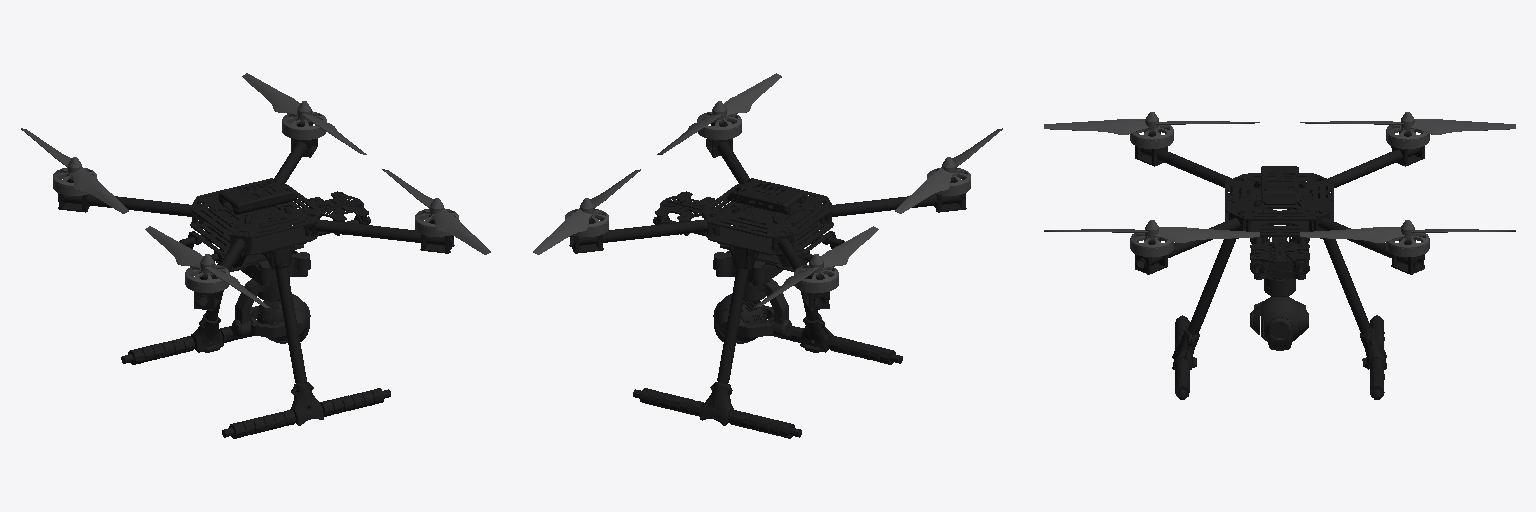
URDF robot description (x500):
<?xml version='1.0' encoding='utf-8'?>
<robot name="x500">
  <!-- Generated by scripts/px4_sdf_to_urdf.py from PX4-gazebo-models x500_gimbal. Velocity and acceleration limits live in drone_planning/x500.py. -->
  <link name="world" />
  <joint name="base_x_joint" type="prismatic">
    <parent link="world" />
    <child link="base_x_link" />
    <axis xyz="1 0 0" />
    <limit lower="-10" upper="10" effort="0" velocity="0" />
  </joint>
  <link name="base_x_link" />
  <joint name="base_y_joint" type="prismatic">
    <parent link="base_x_link" />
    <child link="base_y_link" />
    <axis xyz="0 1 0" />
    <limit lower="-10" upper="10" effort="0" velocity="0" />
  </joint>
  <link name="base_y_link" />
  <joint name="base_z_joint" type="prismatic">
    <parent link="base_y_link" />
    <child link="base_z_link" />
    <axis xyz="0 0 1" />
    <limit lower="0" upper="10" effort="0" velocity="0" />
  </joint>
  <link name="base_z_link" />
  <joint name="base_yaw_joint" type="revolute">
    <parent link="base_z_link" />
    <child link="base_link" />
    <axis xyz="0 0 1" />
    <limit lower="-3.14159265" upper="3.14159265" effort="0" velocity="0" />
  </joint>
  <link name="base_link">
    <inertial>
      <origin xyz="0 0 0" rpy="0 0 0" />
      <mass value="2.0" />
      <inertia ixx="0.02166666666666667" ixy="0" ixz="0" iyy="0.02166666666666667" iyz="0" izz="0.04000000000000001" />
    </inertial>
    <visual>
      <origin xyz="0 0 0.025" rpy="0 0 -3.14159265" />
      <geometry>
        <mesh filename="package://meshes/NXP-HGD-CF.stl" />
      </geometry>
      <material name="base_link_color">
        <color rgba="0.15 0.15 0.15 1" />
      </material>
    </visual>
    <collision>
      <origin xyz="0 0 0.025" rpy="0 0 -3.14159265" />
      <geometry>
        <mesh filename="package://meshes/NXP-HGD-CF.stl" />
      </geometry>
    </collision>
    <visual>
      <origin xyz="0.174 0.174 0.032" rpy="0 0 -0.45" />
      <geometry>
        <mesh filename="package://meshes/5010Base.stl" />
      </geometry>
      <material name="base_link_color">
        <color rgba="0.15 0.15 0.15 1" />
      </material>
    </visual>
    <collision>
      <origin xyz="0.174 0.174 0.032" rpy="0 0 -0.45" />
      <geometry>
        <mesh filename="package://meshes/5010Base.stl" />
      </geometry>
    </collision>
    <visual>
      <origin xyz="-0.174 0.174 0.032" rpy="0 0 -0.45" />
      <geometry>
        <mesh filename="package://meshes/5010Base.stl" />
      </geometry>
      <material name="base_link_color">
        <color rgba="0.15 0.15 0.15 1" />
      </material>
    </visual>
    <collision>
      <origin xyz="-0.174 0.174 0.032" rpy="0 0 -0.45" />
      <geometry>
        <mesh filename="package://meshes/5010Base.stl" />
      </geometry>
    </collision>
    <visual>
      <origin xyz="0.174 -0.174 0.032" rpy="0 0 -0.45" />
      <geometry>
        <mesh filename="package://meshes/5010Base.stl" />
      </geometry>
      <material name="base_link_color">
        <color rgba="0.15 0.15 0.15 1" />
      </material>
    </visual>
    <collision>
      <origin xyz="0.174 -0.174 0.032" rpy="0 0 -0.45" />
      <geometry>
        <mesh filename="package://meshes/5010Base.stl" />
      </geometry>
    </collision>
    <visual>
      <origin xyz="-0.174 -0.174 0.032" rpy="0 0 -0.45" />
      <geometry>
        <mesh filename="package://meshes/5010Base.stl" />
      </geometry>
      <material name="base_link_color">
        <color rgba="0.15 0.15 0.15 1" />
      </material>
    </visual>
    <collision>
      <origin xyz="-0.174 -0.174 0.032" rpy="0 0 -0.45" />
      <geometry>
        <mesh filename="package://meshes/5010Base.stl" />
      </geometry>
    </collision>
  </link>
  <link name="rotor_0">
    <inertial>
      <origin xyz="0 0 0" rpy="0 0 0" />
      <mass value="0.016076923076923075" />
      <inertia ixx="3.8464910483993325e-07" ixy="0" ixz="0" iyy="2.6115851691700804e-05" iyz="0" izz="2.649858234714004e-05" />
    </inertial>
    <visual>
      <origin xyz="-0.022 -0.146384615 -0.016" rpy="0 0 0" />
      <geometry>
        <mesh filename="package://meshes/1345_prop_ccw.stl" />
      </geometry>
      <material name="rotor_0_color">
        <color rgba="0.3 0.3 0.3 1" />
      </material>
    </visual>
    <visual>
      <origin xyz="0 0 -0.032" rpy="0 0 0" />
      <geometry>
        <mesh filename="package://meshes/5010Bell.stl" />
      </geometry>
      <material name="rotor_0_color">
        <color rgba="0.3 0.3 0.3 1" />
      </material>
    </visual>
    <collision>
      <origin xyz="0 0 -0.011307697" rpy="0 0 0" />
      <geometry>
        <cylinder radius="0.146768858" length="0.041384624" />
      </geometry>
    </collision>
  </link>
  <joint name="rotor_0_joint" type="fixed">
    <origin xyz="0.174 -0.174 0.06" rpy="0 0 0" />
    <parent link="base_link" />
    <child link="rotor_0" />
  </joint>
  <link name="rotor_1">
    <inertial>
      <origin xyz="0 0 0" rpy="0 0 0" />
      <mass value="0.016076923076923075" />
      <inertia ixx="3.8464910483993325e-07" ixy="0" ixz="0" iyy="2.6115851691700804e-05" iyz="0" izz="2.649858234714004e-05" />
    </inertial>
    <visual>
      <origin xyz="-0.022 -0.146384615 -0.016" rpy="0 0 0" />
      <geometry>
        <mesh filename="package://meshes/1345_prop_ccw.stl" />
      </geometry>
      <material name="rotor_1_color">
        <color rgba="0.3 0.3 0.3 1" />
      </material>
    </visual>
    <visual>
      <origin xyz="0 0 -0.032" rpy="0 0 0" />
      <geometry>
        <mesh filename="package://meshes/5010Bell.stl" />
      </geometry>
      <material name="rotor_1_color">
        <color rgba="0.3 0.3 0.3 1" />
      </material>
    </visual>
    <collision>
      <origin xyz="0 0 -0.011307697" rpy="0 0 0" />
      <geometry>
        <cylinder radius="0.146768858" length="0.041384624" />
      </geometry>
    </collision>
  </link>
  <joint name="rotor_1_joint" type="fixed">
    <origin xyz="-0.174 0.174 0.06" rpy="0 0 0" />
    <parent link="base_link" />
    <child link="rotor_1" />
  </joint>
  <link name="rotor_2">
    <inertial>
      <origin xyz="0 0 0" rpy="0 0 0" />
      <mass value="0.016076923076923075" />
      <inertia ixx="3.8464910483993325e-07" ixy="0" ixz="0" iyy="2.6115851691700804e-05" iyz="0" izz="2.649858234714004e-05" />
    </inertial>
    <visual>
      <origin xyz="-0.022 -0.146384615 -0.016" rpy="0 0 0" />
      <geometry>
        <mesh filename="package://meshes/1345_prop_cw.stl" />
      </geometry>
      <material name="rotor_2_color">
        <color rgba="0.3 0.3 0.3 1" />
      </material>
    </visual>
    <visual>
      <origin xyz="0 0 -0.032" rpy="0 0 0" />
      <geometry>
        <mesh filename="package://meshes/5010Bell.stl" />
      </geometry>
      <material name="rotor_2_color">
        <color rgba="0.3 0.3 0.3 1" />
      </material>
    </visual>
    <collision>
      <origin xyz="0 0 -0.011307697" rpy="0 0 0" />
      <geometry>
        <cylinder radius="0.146768945" length="0.041384624" />
      </geometry>
    </collision>
  </link>
  <joint name="rotor_2_joint" type="fixed">
    <origin xyz="0.174 0.174 0.06" rpy="0 0 0" />
    <parent link="base_link" />
    <child link="rotor_2" />
  </joint>
  <link name="rotor_3">
    <inertial>
      <origin xyz="0 0 0" rpy="0 0 0" />
      <mass value="0.016076923076923075" />
      <inertia ixx="3.8464910483993325e-07" ixy="0" ixz="0" iyy="2.6115851691700804e-05" iyz="0" izz="2.649858234714004e-05" />
    </inertial>
    <visual>
      <origin xyz="-0.022 -0.146384615 -0.016" rpy="0 0 0" />
      <geometry>
        <mesh filename="package://meshes/1345_prop_cw.stl" />
      </geometry>
      <material name="rotor_3_color">
        <color rgba="0.3 0.3 0.3 1" />
      </material>
    </visual>
    <visual>
      <origin xyz="0 0 -0.032" rpy="0 0 0" />
      <geometry>
        <mesh filename="package://meshes/5010Bell.stl" />
      </geometry>
      <material name="rotor_3_color">
        <color rgba="0.3 0.3 0.3 1" />
      </material>
    </visual>
    <collision>
      <origin xyz="0 0 -0.011307697" rpy="0 0 0" />
      <geometry>
        <cylinder radius="0.146768945" length="0.041384624" />
      </geometry>
    </collision>
  </link>
  <joint name="rotor_3_joint" type="fixed">
    <origin xyz="-0.174 -0.174 0.06" rpy="0 0 0" />
    <parent link="base_link" />
    <child link="rotor_3" />
  </joint>
  <link name="cgo3_mount_link">
    <inertial>
      <origin xyz="-0.02552 0 -0.08136" rpy="0 0 0" />
      <mass value="0.1" />
      <inertia ixx="0.001" ixy="0" ixz="0" iyy="0.001" iyz="0" izz="0.001" />
    </inertial>
    <visual>
      <origin xyz="0 0 0" rpy="0 0 0" />
      <geometry>
        <mesh filename="package://meshes/cgo3_mount_remeshed_v1.stl" />
      </geometry>
      <material name="cgo3_mount_link_color">
        <color rgba="0.175 0.175 0.175 1" />
      </material>
    </visual>
    <collision>
      <origin xyz="0 0 0" rpy="0 0 0" />
      <geometry>
        <mesh filename="package://meshes/cgo3_mount_remeshed_v1.stl" />
      </geometry>
    </collision>
  </link>
  <joint name="GimbalAttachJoint" type="fixed">
    <origin xyz="0 0 0.02" rpy="0 0 3.14" />
    <parent link="base_link" />
    <child link="cgo3_mount_link" />
  </joint>
  <link name="cgo3_vertical_arm_link">
    <inertial>
      <origin xyz="0.02552 0 -0.1283" rpy="0 0 0" />
      <mass value="0.1" />
      <inertia ixx="0.001" ixy="0" ixz="0" iyy="0.001" iyz="0" izz="0.001" />
    </inertial>
    <visual>
      <origin xyz="0.02552 0 0" rpy="0 0 0" />
      <geometry>
        <mesh filename="package://meshes/cgo3_vertical_arm_remeshed_v1.stl" />
      </geometry>
      <material name="cgo3_vertical_arm_link_color">
        <color rgba="0.175 0.175 0.175 1" />
      </material>
    </visual>
    <collision>
      <origin xyz="0.02552 0 0" rpy="0 0 0" />
      <geometry>
        <mesh filename="package://meshes/cgo3_vertical_arm_remeshed_v1.stl" />
      </geometry>
    </collision>
  </link>
  <joint name="cgo3_vertical_arm_joint" type="revolute">
    <origin xyz="-0.02552 0 0" rpy="0 0 0" />
    <parent link="cgo3_mount_link" />
    <child link="cgo3_vertical_arm_link" />
    <axis xyz="0 0 -1" />
    <limit lower="-3.14159265" upper="3.14159265" effort="0" velocity="0" />
  </joint>
  <link name="cgo3_horizontal_arm_link">
    <inertial>
      <origin xyz="-0.0213 0 -0.0001" rpy="0 0 0" />
      <mass value="0.1" />
      <inertia ixx="0.001" ixy="0" ixz="0" iyy="0.001" iyz="0" izz="0.001" />
    </inertial>
    <visual>
      <origin xyz="0 0 0.1619" rpy="0 0 0" />
      <geometry>
        <mesh filename="package://meshes/cgo3_horizontal_arm_remeshed_v1.stl" />
      </geometry>
      <material name="cgo3_horizontal_arm_link_color">
        <color rgba="0.175 0.175 0.175 1" />
      </material>
    </visual>
    <collision>
      <origin xyz="0 0 0.1619" rpy="0 0 0" />
      <geometry>
        <mesh filename="package://meshes/cgo3_horizontal_arm_remeshed_v1.stl" />
      </geometry>
    </collision>
  </link>
  <joint name="cgo3_horizontal_arm_joint" type="fixed">
    <origin xyz="0.02552 0 -0.1619" rpy="0 0 0" />
    <parent link="cgo3_vertical_arm_link" />
    <child link="cgo3_horizontal_arm_link" />
  </joint>
  <link name="camera_link">
    <inertial>
      <origin xyz="0 0 0" rpy="0 0 0" />
      <mass value="0.1" />
      <inertia ixx="0.001" ixy="0" ixz="0" iyy="0.001" iyz="0" izz="0.001" />
    </inertial>
    <visual>
      <origin xyz="0.0412 0 0.162" rpy="0 0 0" />
      <geometry>
        <mesh filename="package://meshes/cgo3_camera_remeshed_v1.stl" />
      </geometry>
      <material name="camera_link_color">
        <color rgba="0.175 0.175 0.175 1" />
      </material>
    </visual>
    <collision>
      <origin xyz="0.0412 0 0.162" rpy="0 0 0" />
      <geometry>
        <mesh filename="package://meshes/cgo3_camera_remeshed_v1.stl" />
      </geometry>
    </collision>
  </link>
  <joint name="cgo3_camera_joint" type="revolute">
    <origin xyz="-0.0412 0 -0.0001" rpy="0 0 0" />
    <parent link="cgo3_horizontal_arm_link" />
    <child link="camera_link" />
    <axis xyz="0 1 0" />
    <limit lower="-2.35619" upper="0.7854" effort="0" velocity="0" />
  </joint>
  <joint name="camera_sensor_joint" type="fixed">
    <origin xyz="0 0 0" rpy="0 0 3.14" />
    <parent link="camera_link" />
    <child link="camera_sensor_link" />
  </joint>
  <link name="camera_sensor_link" />
</robot>

--- Render facts (derived) ---
Views: 3 orthographic renders of the robot side by side, from view 1: azimuth 30°, elevation 25°; view 2: azimuth 150°, elevation 25°; view 3: azimuth 270°, elevation 25°.
Model x500 with 14 links and 13 joints (3 revolute, 3 prismatic, 7 fixed), rooted at world, posed all joints at 0.
Links seen in each view (by area): view 1: base_link, rotor_2, rotor_3, rotor_0, rotor_1, cgo3_mount_link, cgo3_vertical_arm_link, camera_link, cgo3_horizontal_arm_link; view 2: base_link, rotor_0, rotor_1, rotor_2, rotor_3, cgo3_mount_link, cgo3_vertical_arm_link, camera_link, cgo3_horizontal_arm_link; view 3: base_link, rotor_0, rotor_2, rotor_1, rotor_3, camera_link, cgo3_mount_link, cgo3_horizontal_arm_link.
Boxes of the visible links, left/top/right/bottom form: base_link: left=58, top=120, right=454, bottom=438; rotor_2: left=242, top=73, right=366, bottom=154; rotor_3: left=145, top=226, right=269, bottom=307; rotor_0: left=382, top=169, right=490, bottom=254; rotor_1: left=21, top=128, right=128, bottom=213; cgo3_mount_link: left=241, top=244, right=310, bottom=301; cgo3_vertical_arm_link: left=231, top=277, right=289, bottom=337; camera_link: left=257, top=294, right=310, bottom=343; cgo3_horizontal_arm_link: left=250, top=305, right=306, bottom=339; base_link: left=569, top=120, right=966, bottom=438; rotor_0: left=657, top=73, right=781, bottom=154; rotor_1: left=754, top=226, right=878, bottom=307; rotor_2: left=533, top=169, right=640, bottom=254; rotor_3: left=895, top=128, right=1002, bottom=213; cgo3_mount_link: left=713, top=244, right=782, bottom=301; cgo3_vertical_arm_link: left=745, top=279, right=792, bottom=337; camera_link: left=713, top=294, right=766, bottom=343; cgo3_horizontal_arm_link: left=717, top=305, right=773, bottom=339; base_link: left=1135, top=131, right=1424, bottom=399; rotor_0: left=1044, top=220, right=1259, bottom=256; rotor_2: left=1300, top=220, right=1515, bottom=256; rotor_1: left=1300, top=112, right=1515, bottom=148; rotor_3: left=1044, top=112, right=1259, bottom=148; camera_link: left=1261, top=297, right=1298, bottom=350; cgo3_mount_link: left=1254, top=241, right=1305, bottom=296; cgo3_horizontal_arm_link: left=1250, top=301, right=1308, bottom=335.
Bounding box of the posed robot: 0.407 × 0.6408 × 0.2973 m (x, y, z).
Meshes: 9 distinct files referenced, 17 mesh visuals loaded (9 binary STL).
